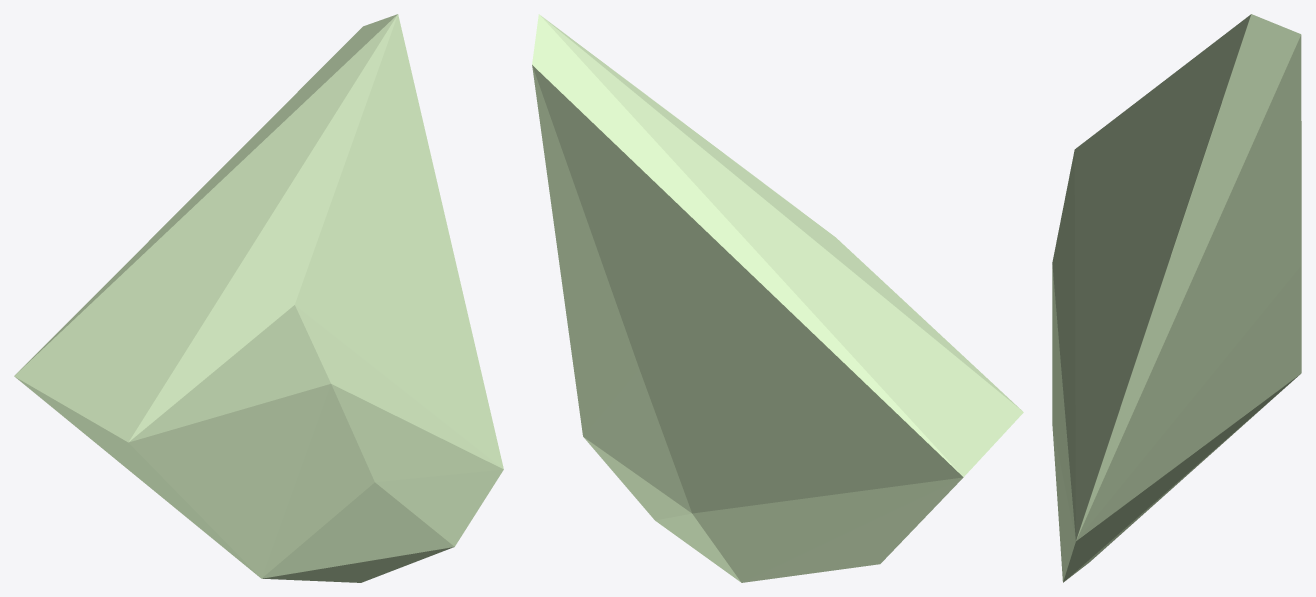
The model's file is kuka_robot_base_coll_18.dae.
3 views of the same model, side by side, from view 1: azimuth 30°, elevation 25°; view 2: azimuth 150°, elevation 25°; view 3: azimuth 270°, elevation 25° (orthographic). The views are drawn at different scales.
Visible parts, largest first — view 1: Node_0000015C5C912980; view 2: Node_0000015C5C912980; view 3: Node_0000015C5C912980.
Part boxes in pixels (<box>): Node_0000015C5C912980: <box>14,14,503,582</box>; Node_0000015C5C912980: <box>532,14,1023,582</box>; Node_0000015C5C912980: <box>1052,14,1301,582</box>.
Size of the model in its own units: 0.0299 by 0.0351 by 0.013.
